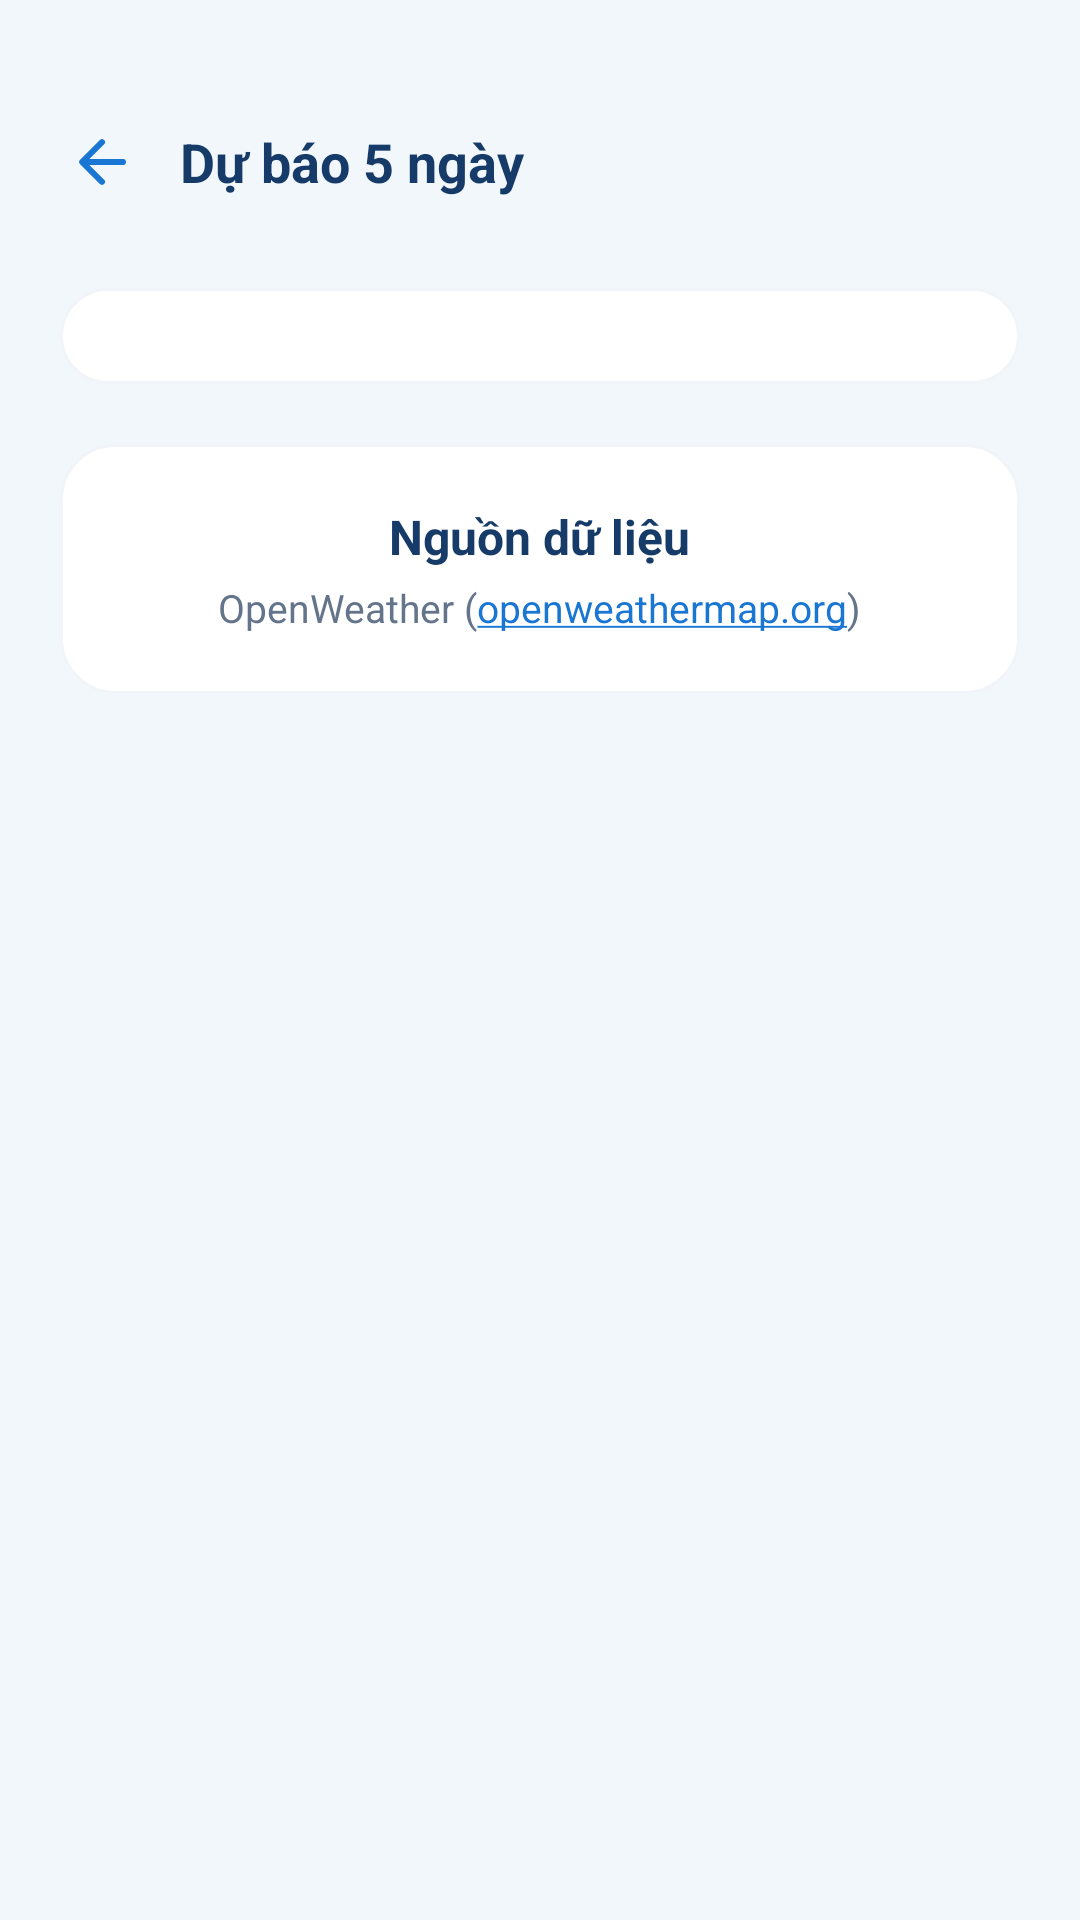

Screen size 1080*1920. Icon name, then its box in pixels as (x1, y1, x2, y2):
Back: (79, 139, 126, 185)
